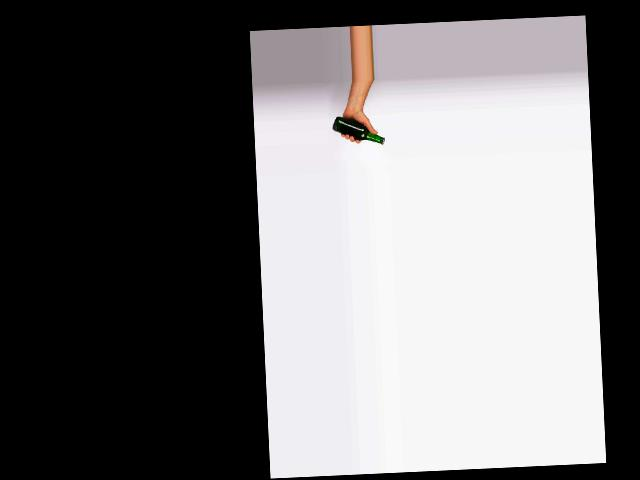beer: (332, 114, 385, 146)
